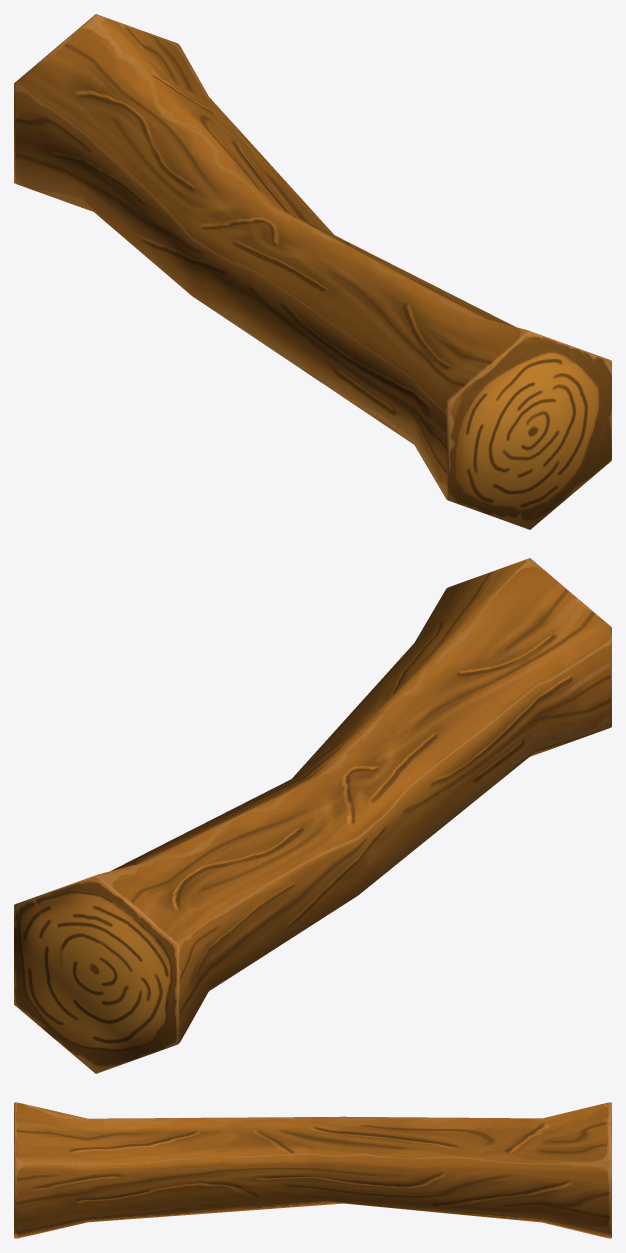
Rendered from Wood.fbx.
The picture shows the model from 3 angles, top to bottom: view 1: azimuth 30°, elevation 25°; view 2: azimuth 150°, elevation 25°; view 3: azimuth 270°, elevation 25°; orthographic projection. The views are drawn at different scales.
Parts seen in each view (by area): view 1: Cylinder; view 2: Cylinder; view 3: Cylinder.
Part boxes in pixels (left/top/right/bottom): Cylinder: left=14, top=14, right=611, bottom=529; Cylinder: left=14, top=558, right=611, bottom=1073; Cylinder: left=14, top=1102, right=611, bottom=1238.
Size of the model in its own units: 172 by 198 by 787.
Materials: 1 (1 with a texture image).
